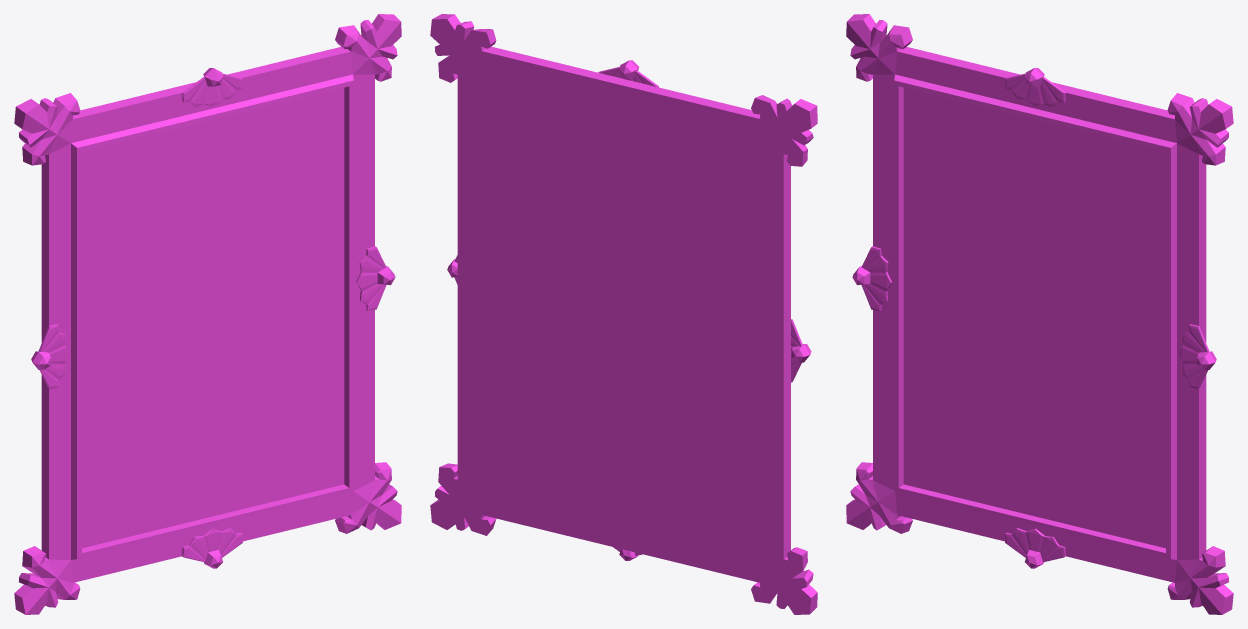
Rendered from SM_Picture_HolyIcon_Painting_Fantasy.fbx.
The picture shows the model from 3 angles, left to right: view 1: azimuth 30°, elevation 25°; view 2: azimuth 150°, elevation 25°; view 3: azimuth 330°, elevation 25°; orthographic projection.
Visible parts, largest first — view 1: SM_Picture_HolyIcon_Painting_Fantasy; view 2: SM_Picture_HolyIcon_Painting_Fantasy; view 3: SM_Picture_HolyIcon_Painting_Fantasy.
Boxes of the visible parts, left/top/right/bottom form: SM_Picture_HolyIcon_Painting_Fantasy: left=14, top=14, right=401, bottom=614; SM_Picture_HolyIcon_Painting_Fantasy: left=430, top=14, right=817, bottom=614; SM_Picture_HolyIcon_Painting_Fantasy: left=846, top=14, right=1233, bottom=614.
Bounding box in the file's own units: 1.55 × 1.99 × 0.0984.
